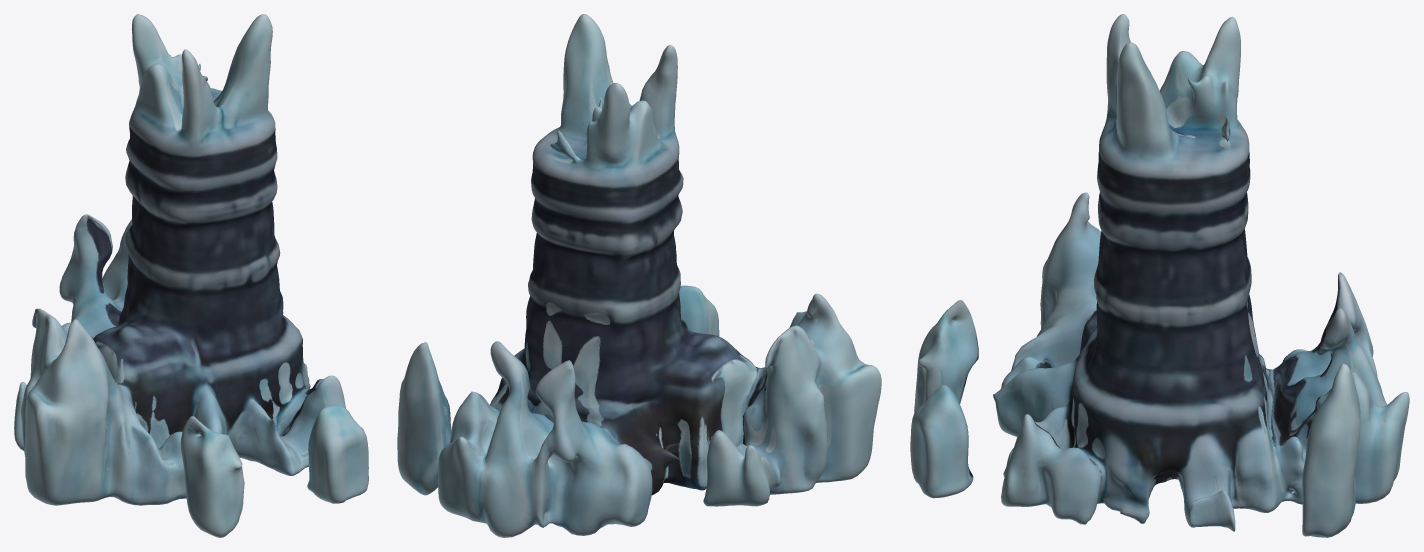
Rendered from 91811002261f_Create_a_medieval_i.fbx.
The picture shows the model from 3 angles, left to right: view 1: azimuth 30°, elevation 25°; view 2: azimuth 150°, elevation 25°; view 3: azimuth 270°, elevation 25°; orthographic projection. The views are drawn at different scales.
Parts seen in each view (by area): view 1: mesh; view 2: mesh; view 3: mesh.
Part boxes in pixels (bbox=[...]): mesh: bbox=[14, 14, 368, 537]; mesh: bbox=[397, 14, 881, 537]; mesh: bbox=[910, 14, 1409, 537].
Size of the model in its own units: 85.67 by 98.93 by 97.24.
